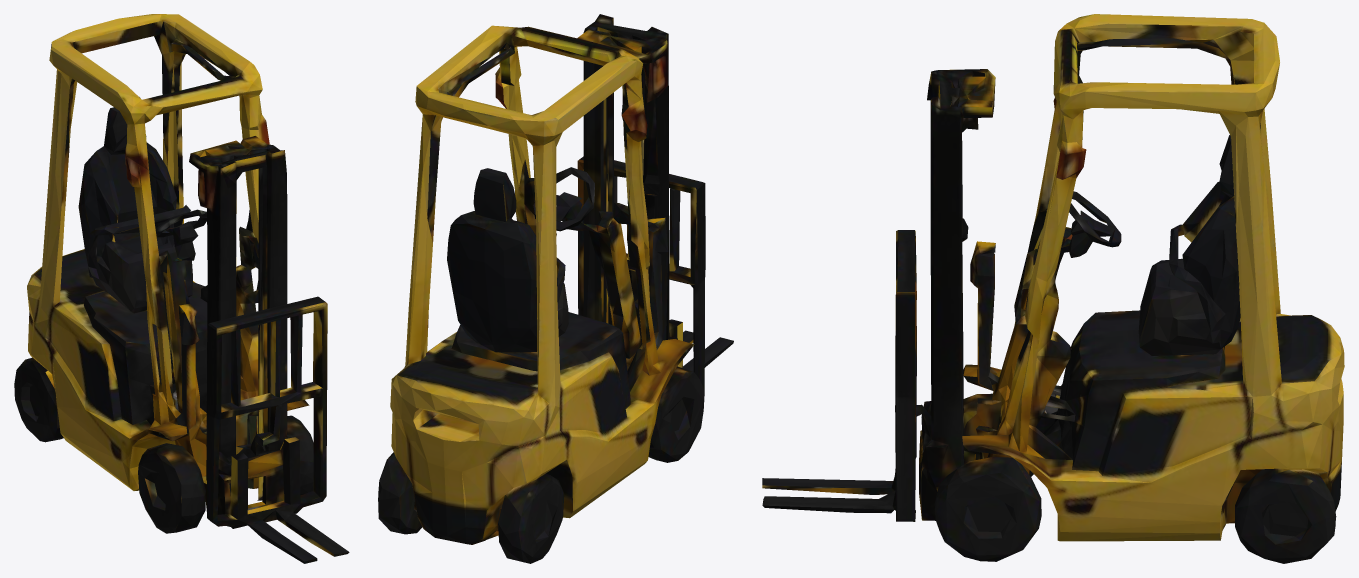
File: forklift.glb
3 renders of one model, left to right at view 1: azimuth 30°, elevation 25°; view 2: azimuth 150°, elevation 25°; view 3: azimuth 270°, elevation 25°, orthographic. The views are drawn at different scales.
Parts seen in each view (by area): view 1: textured_mesh.obj; view 2: textured_mesh.obj; view 3: textured_mesh.obj.
Boxes of the visible parts, bbox=[...] form: textured_mesh.obj: bbox=[14, 14, 349, 563]; textured_mesh.obj: bbox=[378, 14, 733, 563]; textured_mesh.obj: bbox=[762, 14, 1344, 563].
Bounding box in the file's own units: 0.8207 × 2.2 × 2.44.
Materials: 1 (1 with a texture image).
